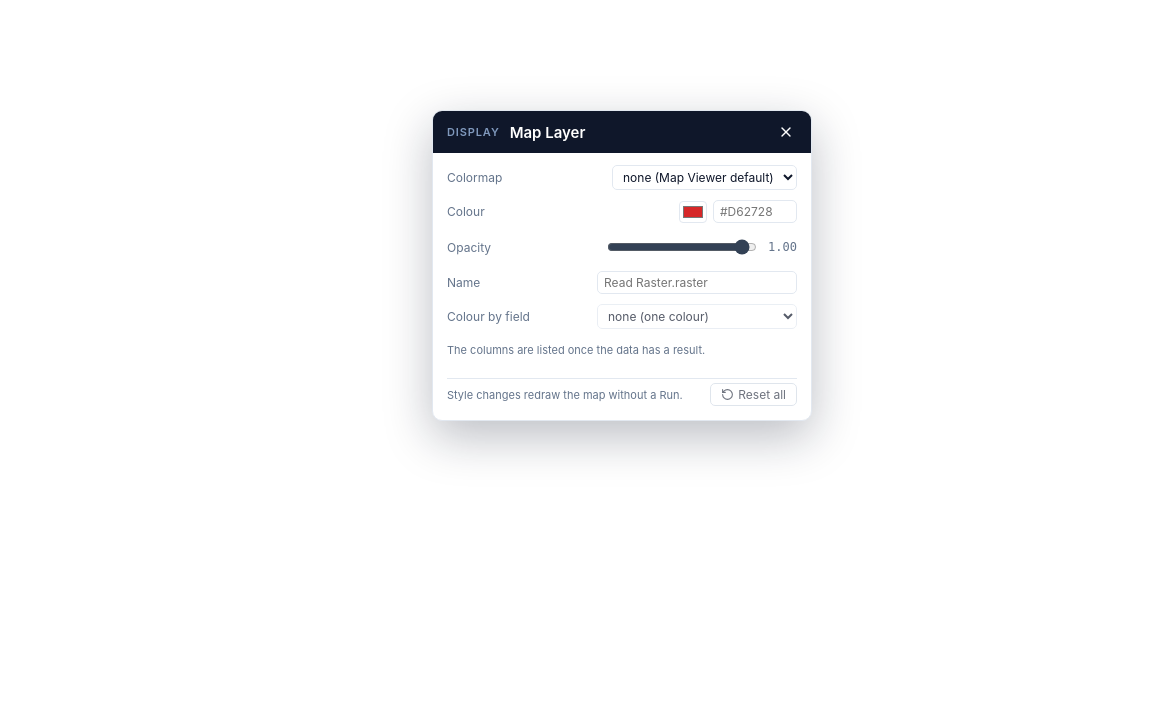
Test case: Map Layer window › an opacity drag and a colour picker each send one patch once they rest
Later steps or results of the test are not shown.
Set the slider with test id "layer-opacity" to "0.9" at (736, 247), box left=607, top=235, right=757, bottom=259
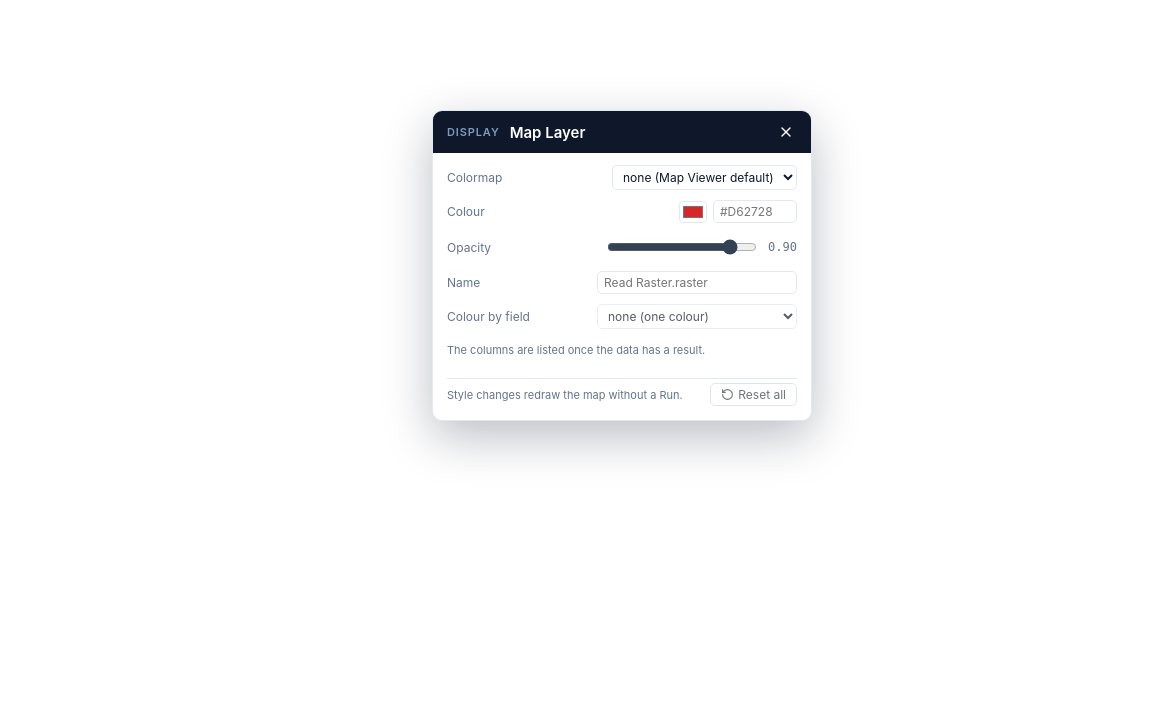
Set the slider with test id "layer-opacity" to "0.7" at (709, 247), box left=607, top=235, right=757, bottom=259
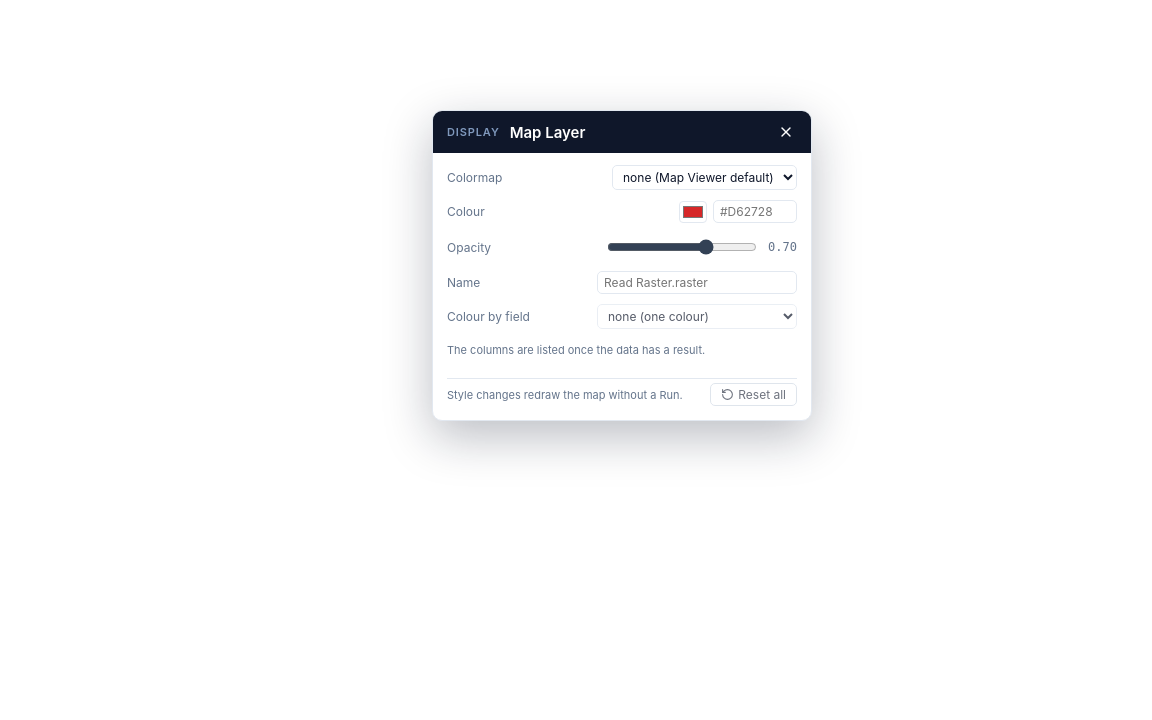
Set the slider with test id "layer-opacity" to "0.55" at (689, 247), box left=607, top=235, right=757, bottom=259
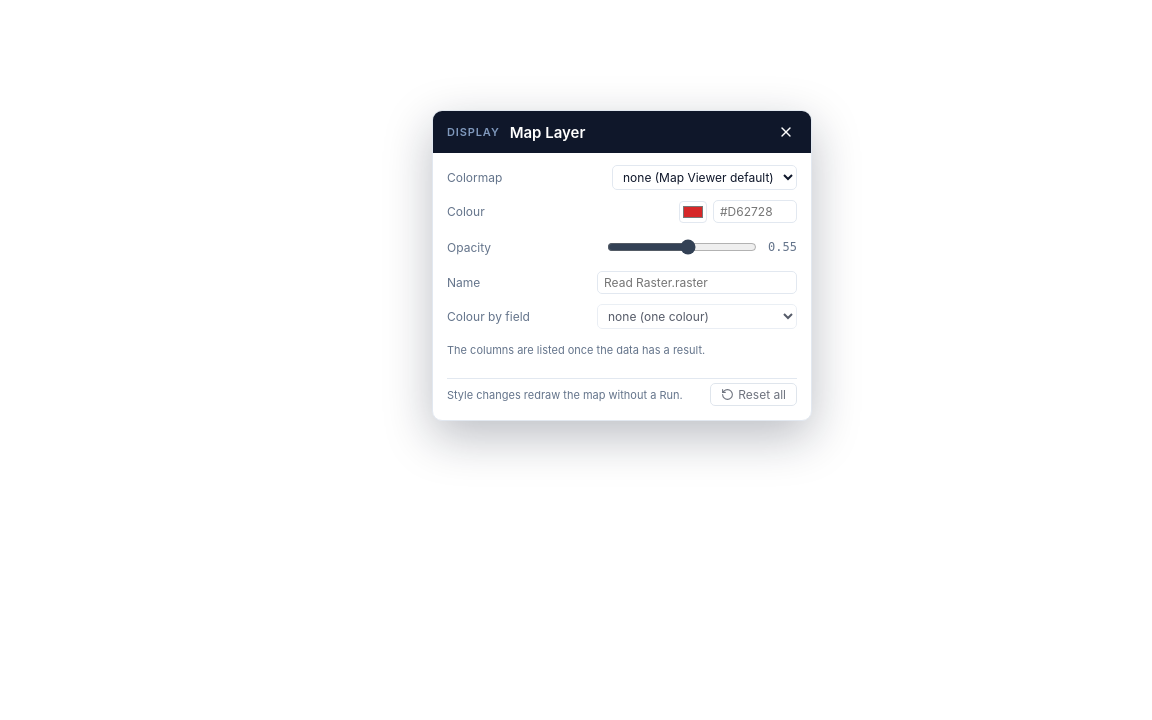
Check: the text with test id "layer-opacity-value" reads "0.55", box left=768, top=240, right=797, bottom=254
